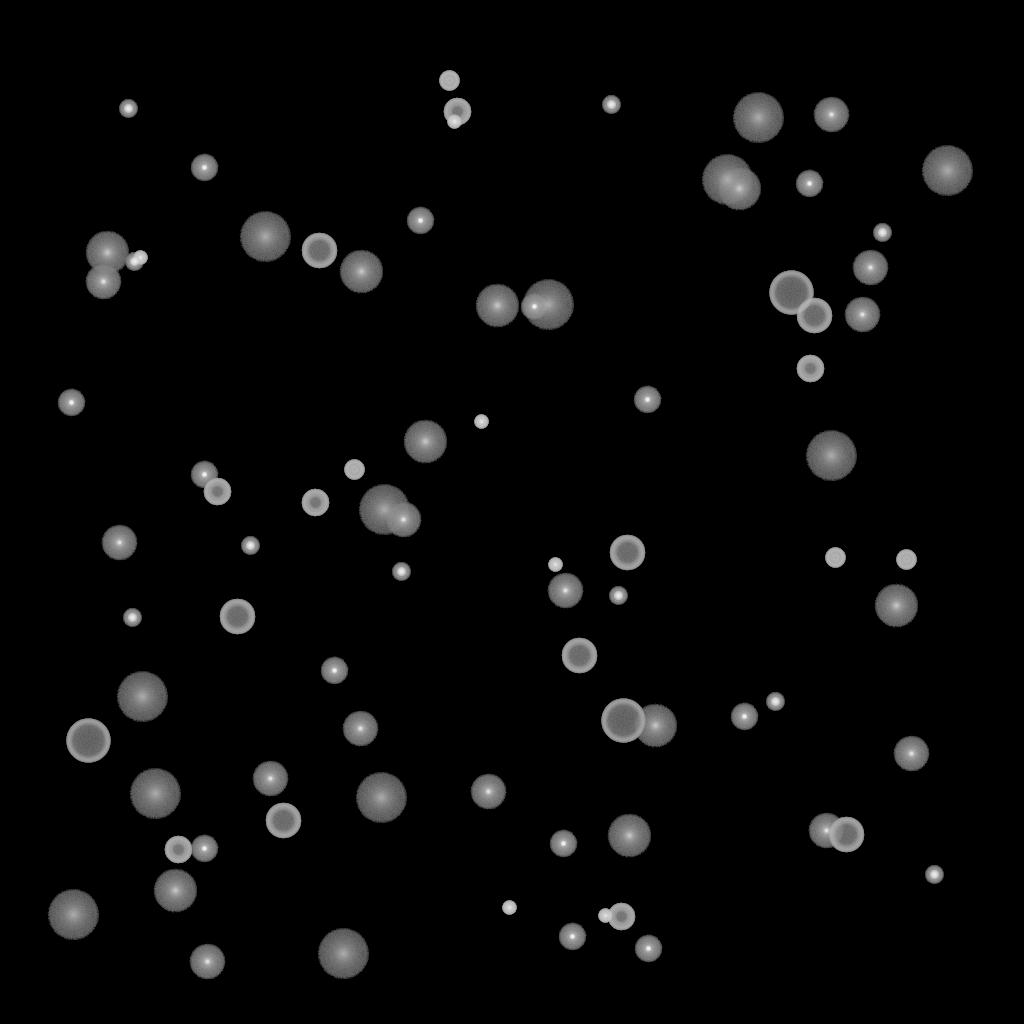depth:-10: (634, 935, 662, 963), (558, 923, 586, 951), (520, 293, 548, 321), (190, 154, 218, 182), (406, 207, 434, 235), (633, 386, 661, 414), (190, 461, 218, 489), (57, 389, 85, 417), (730, 703, 758, 731), (549, 830, 577, 858), (320, 657, 348, 685), (190, 835, 218, 863), (795, 170, 823, 198)
depth:-20: (609, 587, 627, 605), (119, 100, 137, 118), (766, 693, 784, 711), (873, 224, 891, 242), (925, 866, 943, 884), (602, 96, 620, 114), (392, 563, 410, 581), (123, 609, 141, 627), (241, 537, 259, 555), (125, 253, 143, 271)
depth:-30: (447, 115, 461, 129), (598, 909, 612, 923), (133, 251, 147, 265), (502, 901, 516, 915), (474, 415, 488, 429), (548, 558, 562, 572)
depth:-40: (344, 460, 364, 480), (825, 548, 845, 568), (439, 71, 459, 91), (896, 550, 916, 570)
depth:-50: (301, 489, 329, 517), (796, 355, 824, 383), (607, 903, 635, 931), (443, 98, 471, 126), (164, 836, 192, 864), (203, 478, 231, 506)
depth:-60: (796, 298, 832, 334), (265, 803, 301, 839), (301, 233, 337, 269), (561, 638, 597, 674), (219, 599, 255, 635), (828, 817, 864, 853), (609, 535, 645, 571)
depth:-70: (769, 271, 813, 315), (601, 699, 645, 743), (66, 719, 110, 763)
depth:0: (189, 944, 225, 980), (101, 525, 137, 561), (813, 97, 849, 133), (342, 711, 378, 747), (547, 573, 583, 609), (893, 736, 929, 772), (852, 250, 888, 286), (252, 761, 288, 797), (844, 297, 880, 333), (385, 502, 421, 538), (85, 264, 121, 300), (808, 813, 844, 849), (470, 774, 506, 810)
depth:10: (633, 704, 677, 748), (85, 231, 129, 275), (874, 584, 918, 628), (475, 284, 519, 328), (717, 167, 761, 211), (339, 250, 383, 294), (153, 869, 197, 913), (403, 420, 447, 464), (607, 814, 651, 858)
depth:20: (522, 280, 574, 330), (355, 773, 407, 823), (47, 890, 99, 940), (805, 431, 857, 481), (732, 93, 784, 143), (921, 146, 973, 196), (116, 672, 168, 722), (129, 769, 181, 819), (358, 485, 410, 535), (317, 929, 369, 979), (239, 212, 291, 262), (701, 155, 753, 205)
